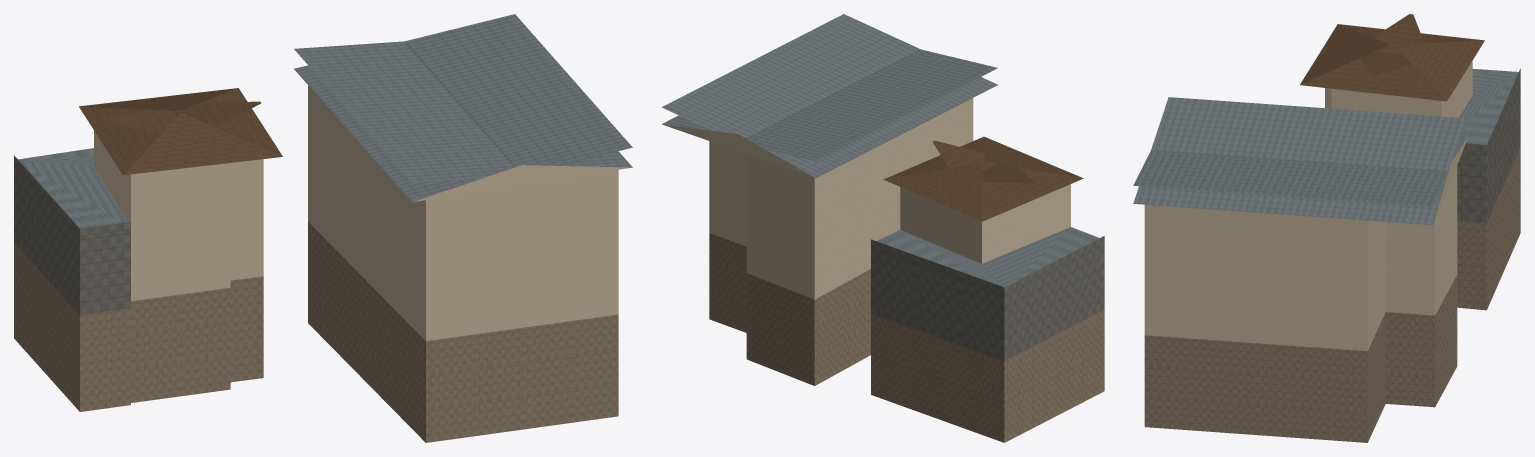
The model's file is bld_c3_17_457.gltf.
3 views of the same model, side by side, from view 1: azimuth 30°, elevation 25°; view 2: azimuth 150°, elevation 25°; view 3: azimuth 270°, elevation 25° (orthographic). The views are drawn at different scales.
Visible parts, largest first — view 1: bld_c3_17_457; view 2: bld_c3_17_457; view 3: bld_c3_17_457.
Part boxes in pixels (<box>): bld_c3_17_457: <box>14,14,632,442</box>; bld_c3_17_457: <box>661,14,1104,442</box>; bld_c3_17_457: <box>1133,14,1520,442</box>.
Size of the model in its own units: 25.1 by 13.9 by 19.51.
Materials: 7 (7 with a texture image).
